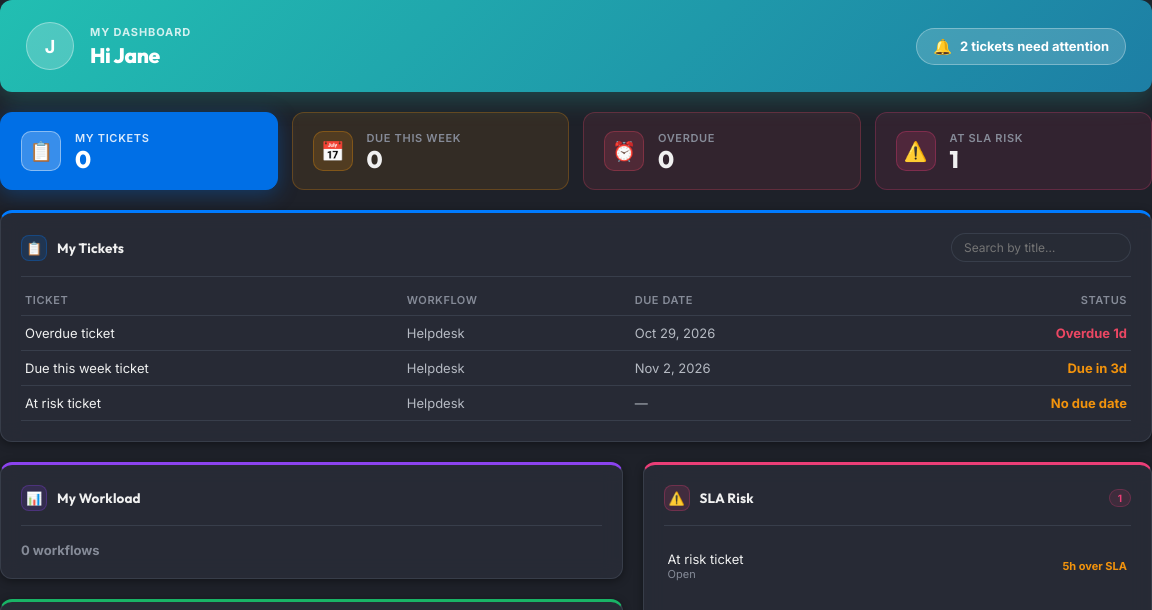
Test case: Dashboard — KPI tiles filter the My Tickets list › filters to only tickets due this week when the Due This Week tile is clicked
Expected: the text "Overdue ticket" is shown, [21, 316, 403, 350]
Click the text "Due This Week".
click(414, 138)  # box [366, 131, 461, 145]
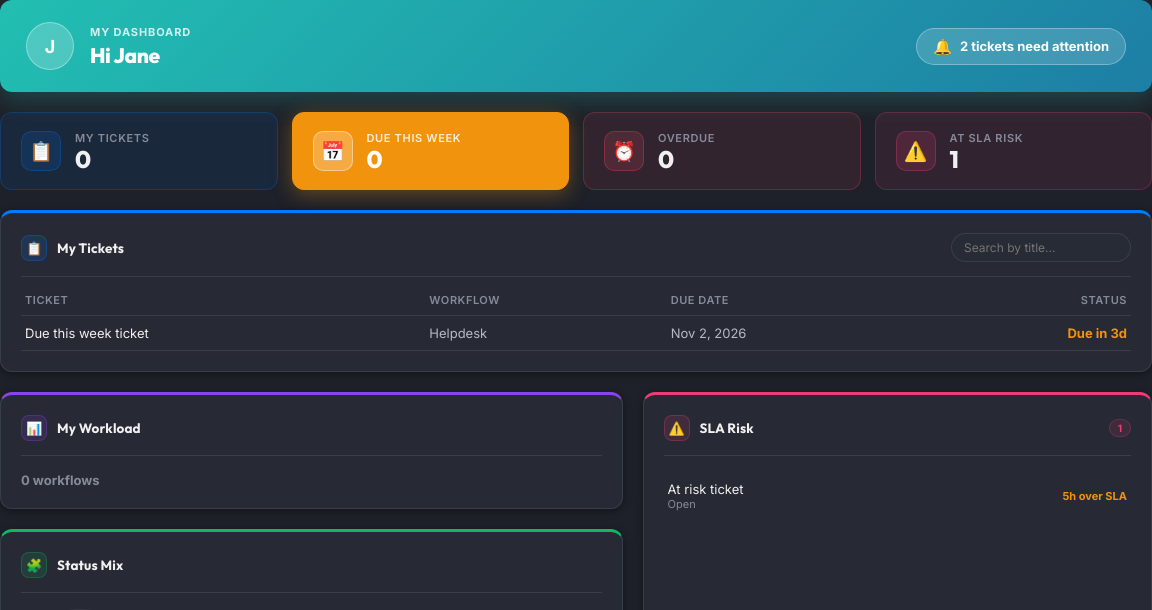
Expected: the text "Due this week ticket" is shown, [21, 316, 425, 350]
Expected: the text "Overdue ticket" is gone
